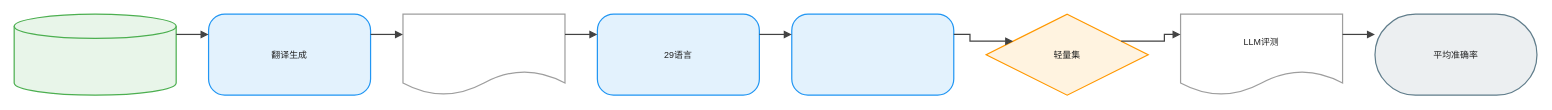
The diagram is 1552 pixels wide and 110 high, and some of its shapes have lost their labels. The shapes that lost their labels are listed below. From the top down, each one's box as (x1, y1, x2, y2) in pixels, then its label:
(13, 13, 176, 95): MMLU-Pro
(402, 13, 565, 95): 专家审校
(791, 13, 954, 95): 并行题目
